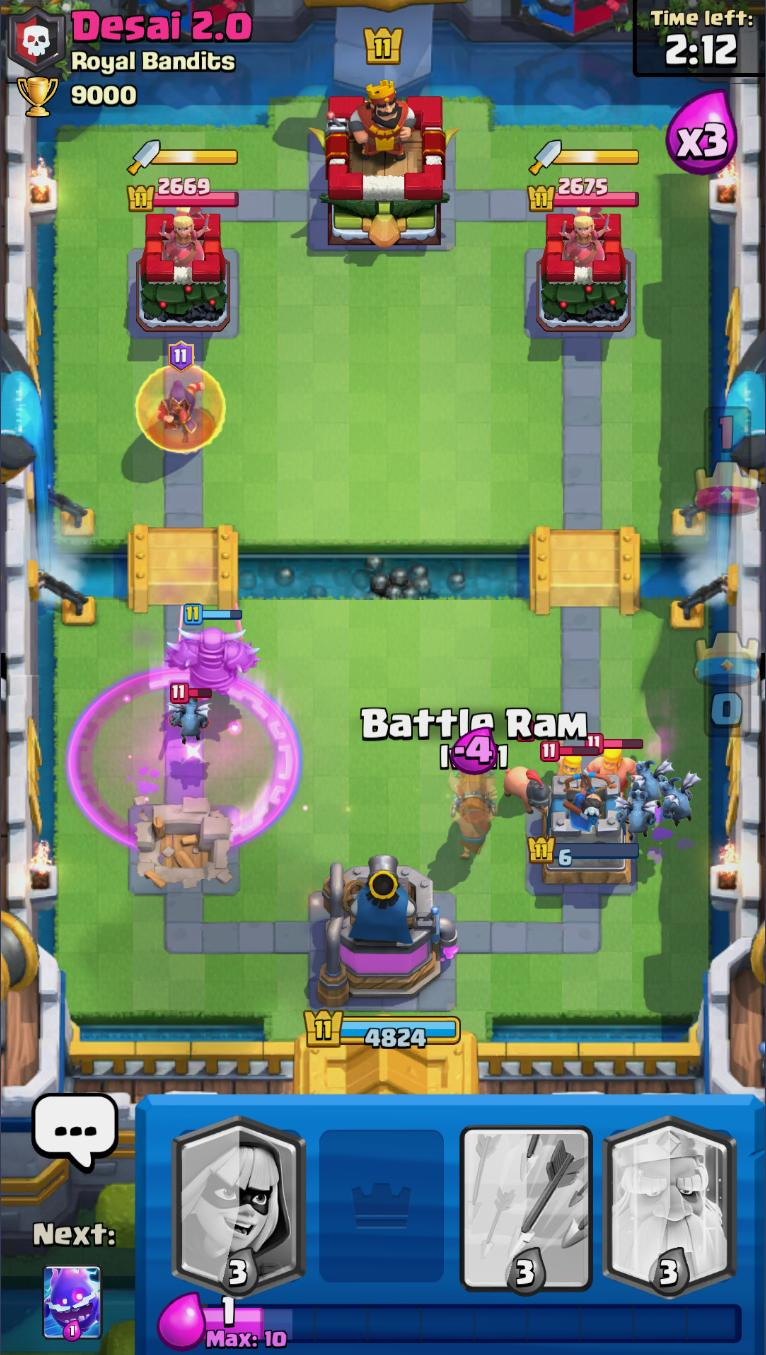ArrowDeck: (454, 1096, 600, 1296)
BanditDeck: (166, 1096, 311, 1294)
Barbarian: (583, 730, 644, 777), (541, 737, 600, 777)
DaggerDuchess: (157, 206, 210, 266), (557, 206, 611, 264)
Daggers: (126, 140, 240, 176), (531, 139, 640, 173)
ElectroSpiritNext: (41, 1264, 103, 1343)
Elixir: (203, 1294, 744, 1351)
Empty: (313, 1099, 451, 1297)
EnemyTower: (136, 214, 234, 334), (539, 211, 633, 333)
EvoWizard: (137, 340, 226, 451)
KingTower: (320, 74, 451, 251)
MyKingHP: (304, 1009, 461, 1050)
MyKingTower: (314, 859, 460, 1011)
MyMinion: (647, 773, 700, 826), (627, 756, 673, 804), (616, 787, 659, 837)
MyPekka: (164, 600, 264, 699)
MyPrincessTower: (527, 771, 641, 889)
MyPrincessTowerBrocken: (124, 796, 240, 893)
MyPrincessTowerHP: (526, 837, 640, 866)
Rage: (71, 669, 299, 849)
RoyaleGhostDeck: (597, 1094, 741, 1299)
RoyalePig: (503, 734, 551, 816)
TowerPrincessHP: (127, 174, 240, 210), (530, 176, 641, 210)
